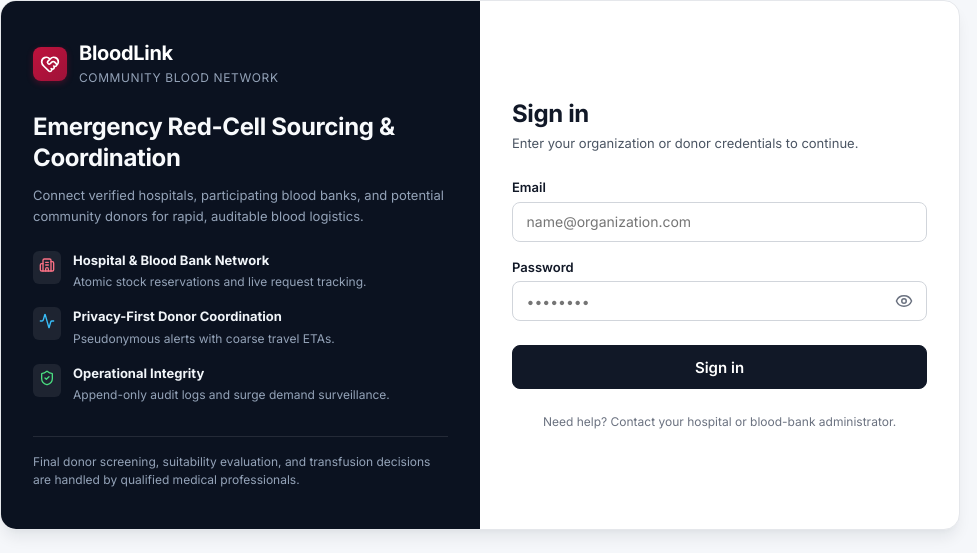
Test case: Auth Flow & Security › toggles password visibility without clearing the controlled value
Type "MyPassword123!" into the password field labelled "Password" at (720, 301), box [512,281,927,321]
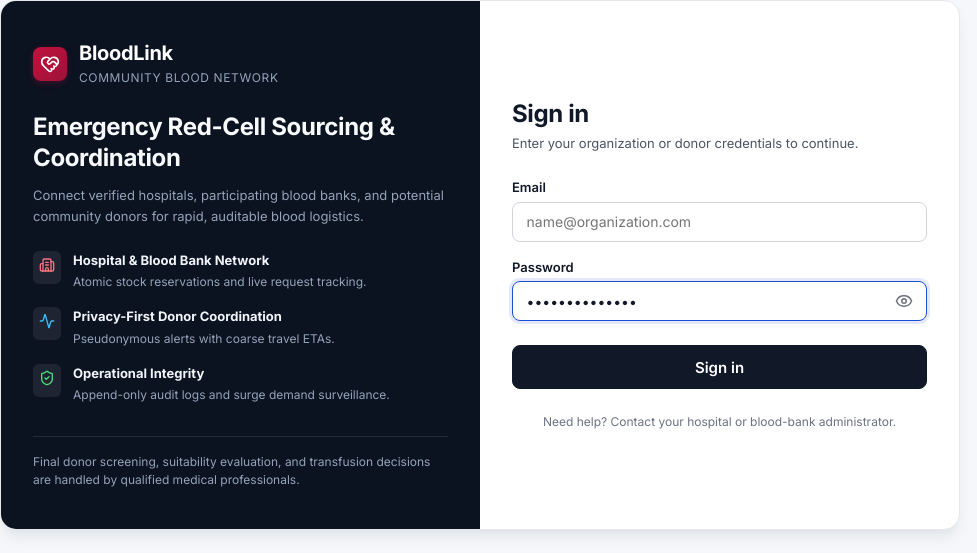
Click the button named "Show password" at (904, 301), box [888,285,920,317]
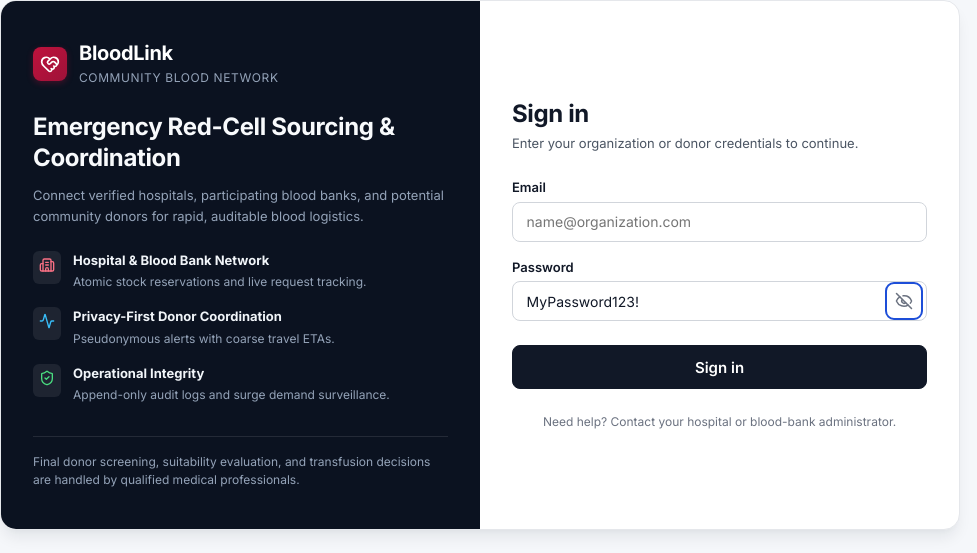
expect the field labelled "Password" shows its text: met, box [512,281,927,321]
Click the button named "Hide password" at (904, 301), box [888,285,920,317]
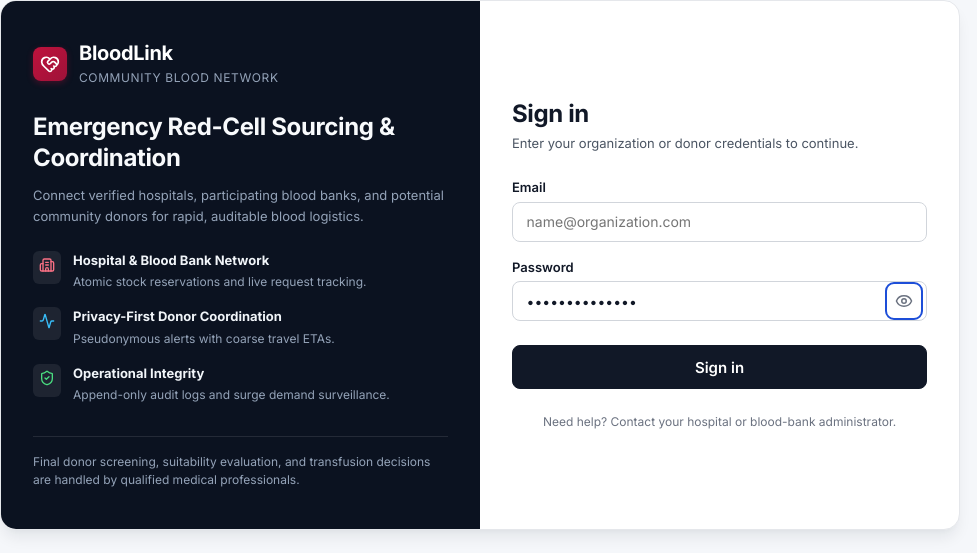
expect the password field labelled "Password" hides its text: met, box [512,281,927,321]
